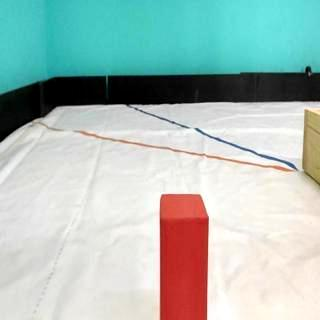redbox: (160, 193, 207, 320)
